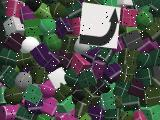Left: (79, 2, 121, 48)
